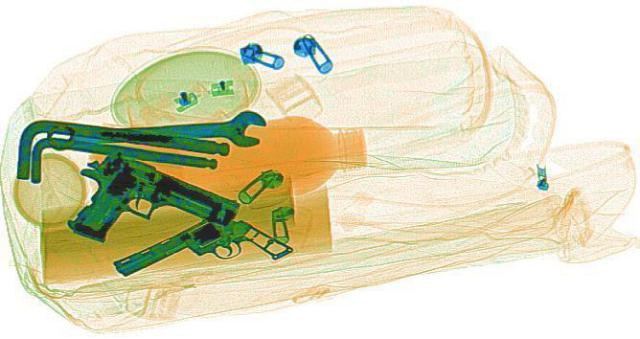Gun: (8, 147, 250, 262), (102, 209, 300, 301)
Wrench: (40, 108, 270, 153)
